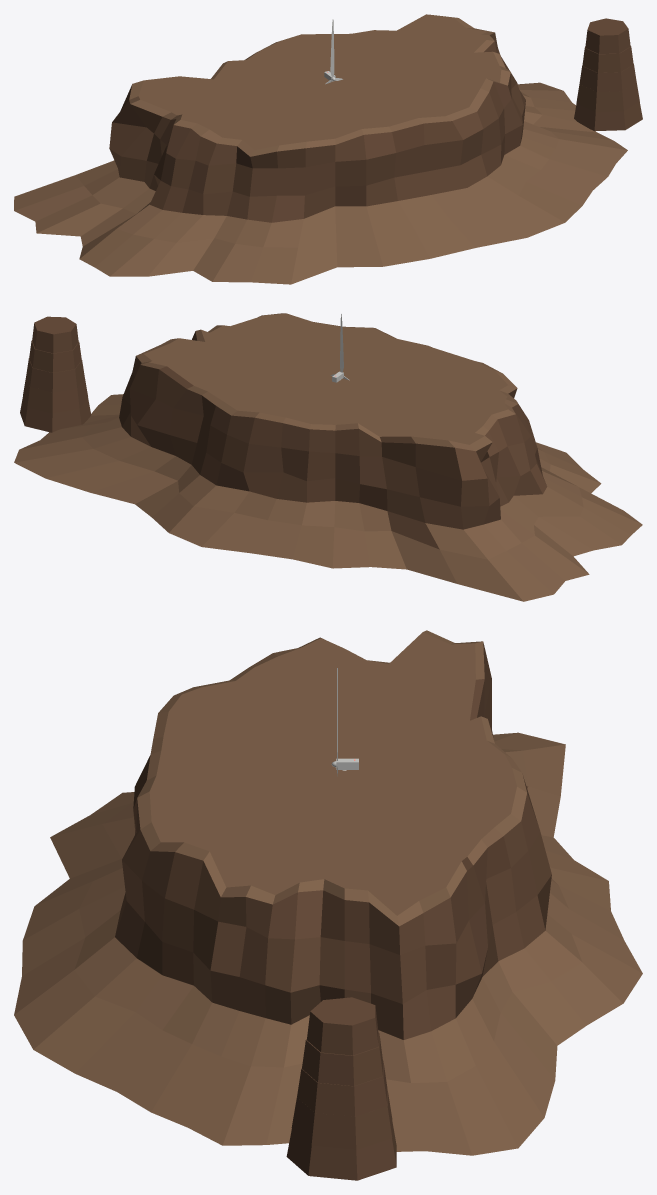
File: escenario_desierto.glb
The picture shows the model from 3 angles, top to bottom: view 1: azimuth 30°, elevation 25°; view 2: azimuth 150°, elevation 25°; view 3: azimuth 270°, elevation 25°; orthographic projection. The views are drawn at different scales.
Parts seen in each view (by area): view 1: meseta_3; view 2: meseta_3; view 3: meseta_3.
Part boxes in pixels (x1,y1,x2,y2): meseta_3: (14, 14, 642, 284); meseta_3: (14, 313, 642, 601); meseta_3: (14, 630, 642, 1180).
Bounding box in the file's own units: 406 × 113 × 237.
